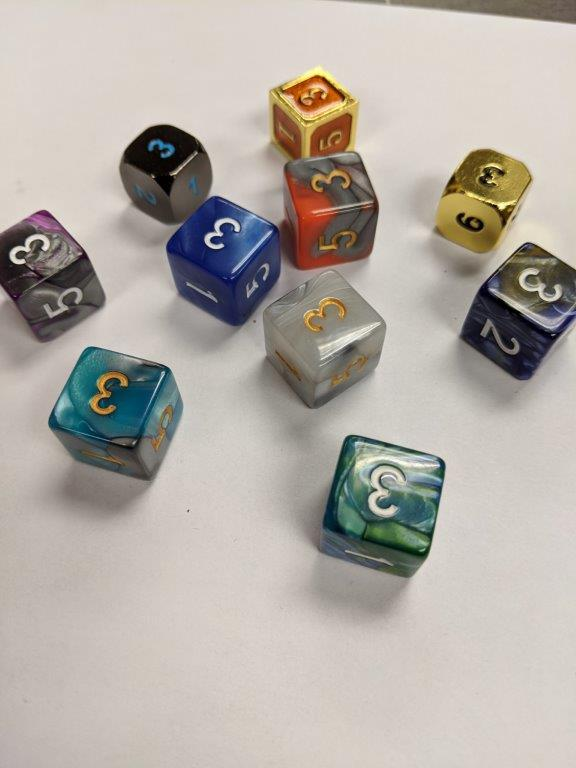d6-3: (318, 431, 446, 580), (48, 346, 184, 482), (265, 267, 388, 409), (455, 245, 576, 383), (165, 197, 284, 327), (1, 207, 107, 344), (283, 152, 381, 267), (434, 146, 533, 252), (115, 122, 214, 225), (270, 64, 362, 156)
